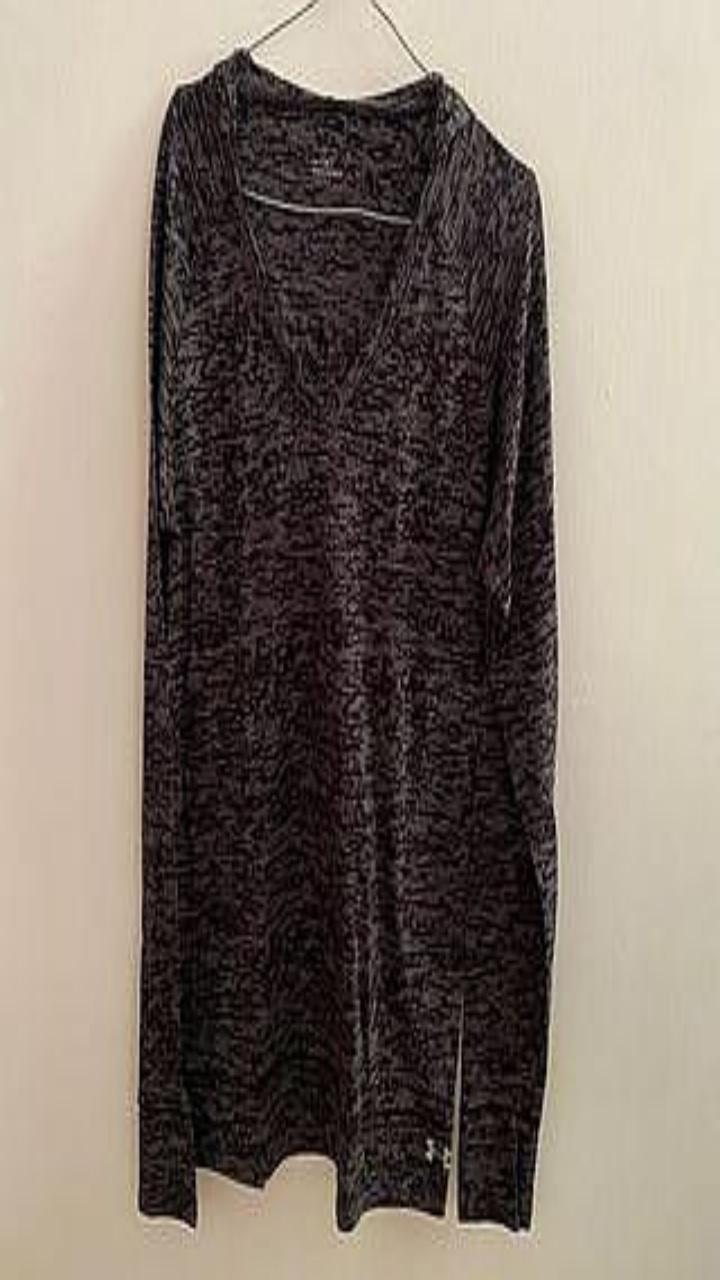T-Shirt: (137, 47, 557, 1230)
